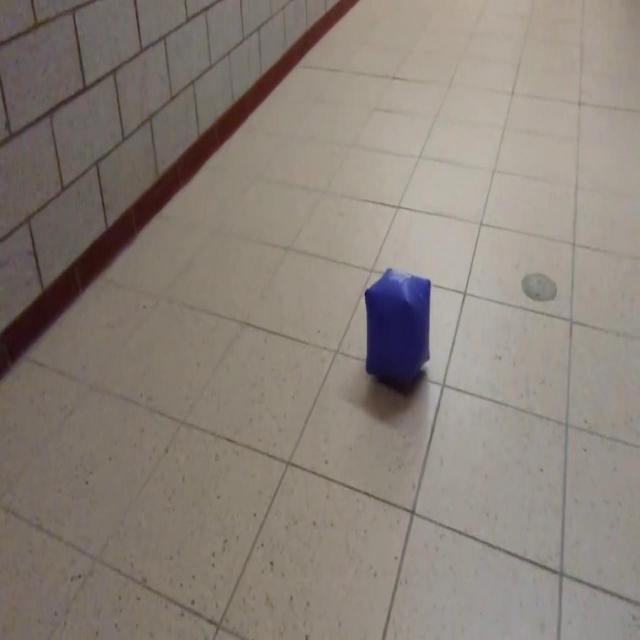frc_cube: (362, 263, 432, 396)
